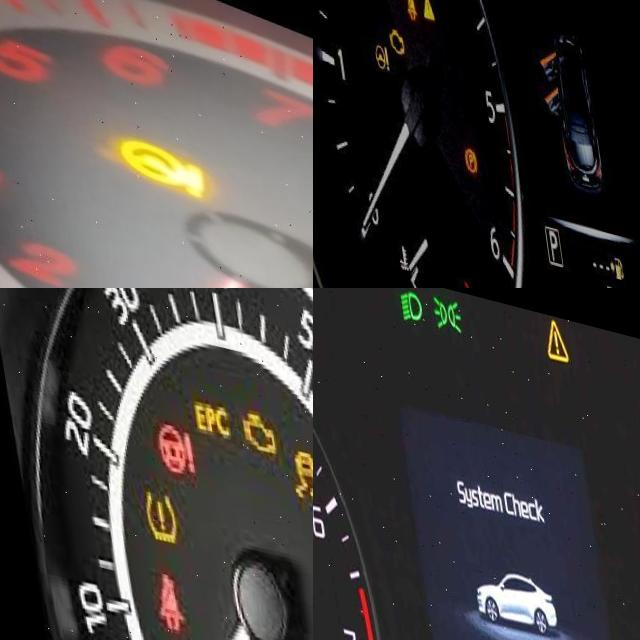Electronic Power Steering: (365, 34, 384, 67)
Electronic Power Steering Warning: (110, 115, 203, 178), (148, 413, 192, 471)
Seat Belt: (145, 564, 174, 627), (397, 0, 415, 15)
